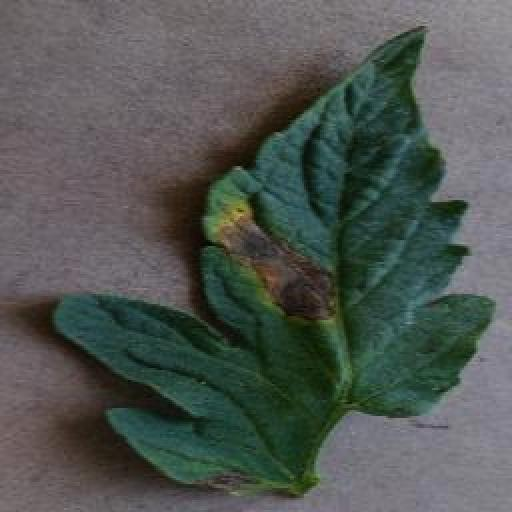disease_tomato: (54, 16, 502, 502)
